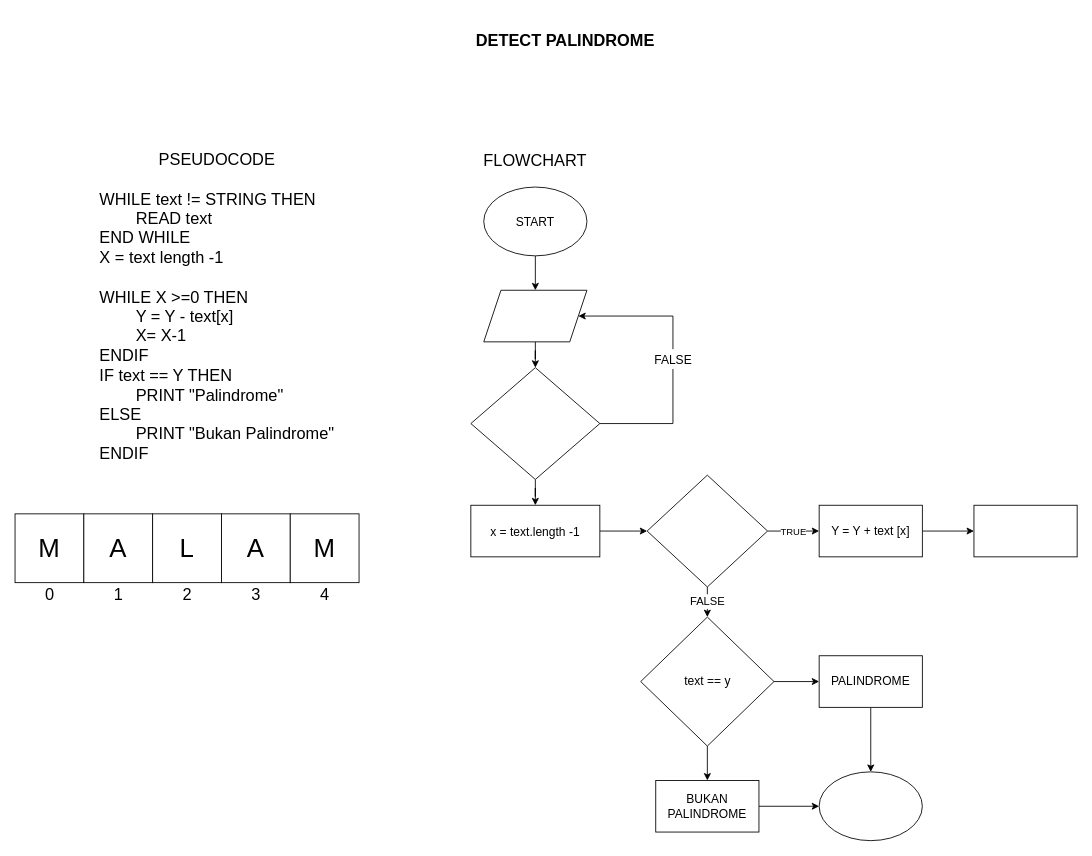
This 1092x856 diagram has some shape labels left out. The shapes that lost their labels are listed below. From the top down, each one's centre as x and y in pixels, then its label:
the point at 535,315: INPUT TEXT
the point at 535,423: TEXT == STRING
the point at 707,530: X >= 0
the point at 1025,530: X = X -1
the point at 870,806: END
